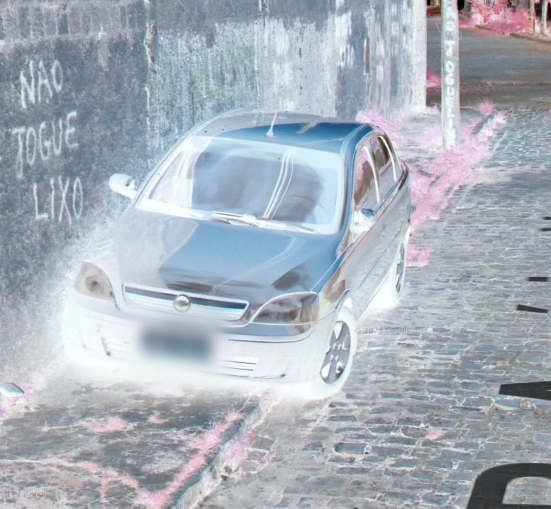car: (56, 104, 415, 402)
